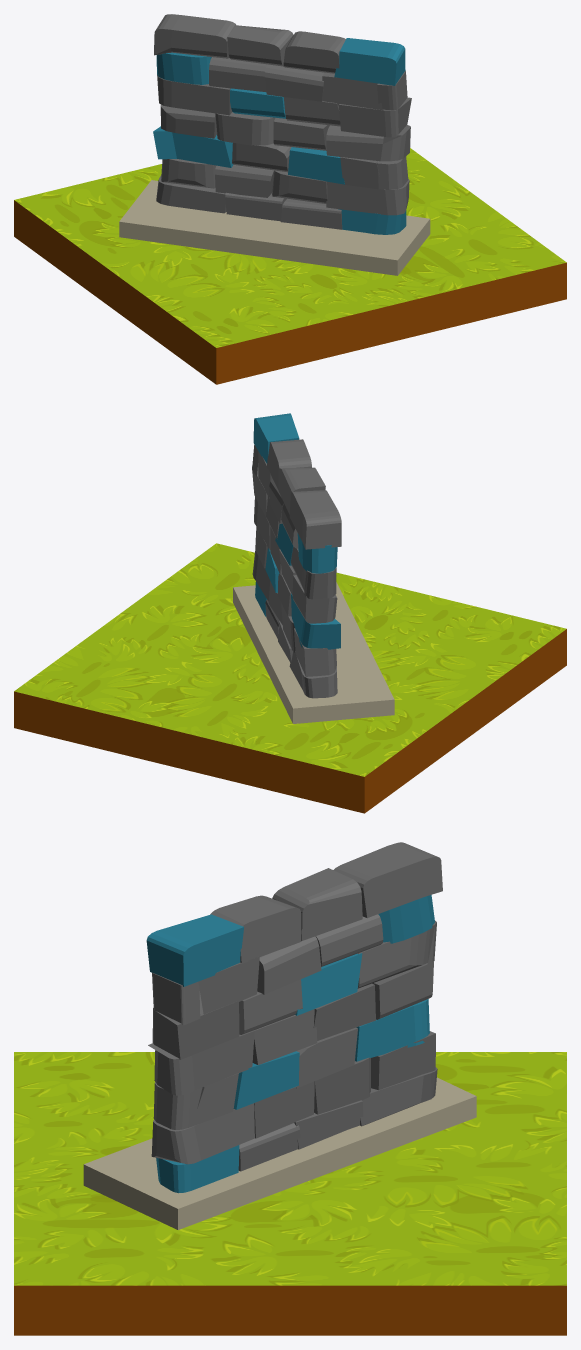
Rendered from tile0078.gltf.
The picture shows the model from 3 angles, top to bottom: view 1: azimuth 30°, elevation 25°; view 2: azimuth 150°, elevation 25°; view 3: azimuth 270°, elevation 25°; orthographic projection. The views are drawn at different scales.
Visible parts, largest first — view 1: Cube.002, Cube, Cube.001; view 2: Cube.002, Cube, Cube.001; view 3: Cube.002, Cube, Cube.001.
Boxes of the visible parts, x1=… form: Cube.002: x1=14, y1=148, x2=566, y2=384; Cube: x1=153, y1=14, x2=411, y2=234; Cube.001: x1=119, y1=180, x2=430, y2=275; Cube.002: x1=14, y1=543, x2=566, y2=813; Cube: x1=252, y1=413, x2=341, y2=698; Cube.001: x1=233, y1=582, x2=394, y2=723; Cube.002: x1=14, y1=1052, x2=566, y2=1335; Cube: x1=146, y1=842, x2=442, y2=1193; Cube.001: x1=83, y1=1077, x2=476, y2=1229.
Size of the model in its own units: 2 by 1.28 by 2.
5 materials, 1 textured.
